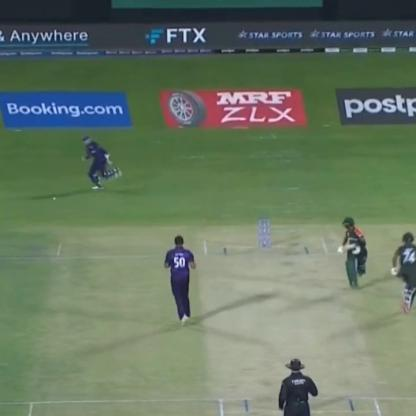ball: (47, 194, 58, 205)
pitch: (187, 233, 383, 416)
